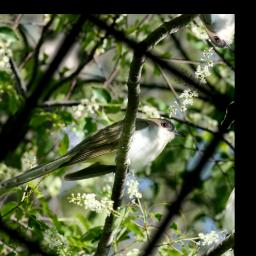Cuckoo: (0, 57, 191, 256)
